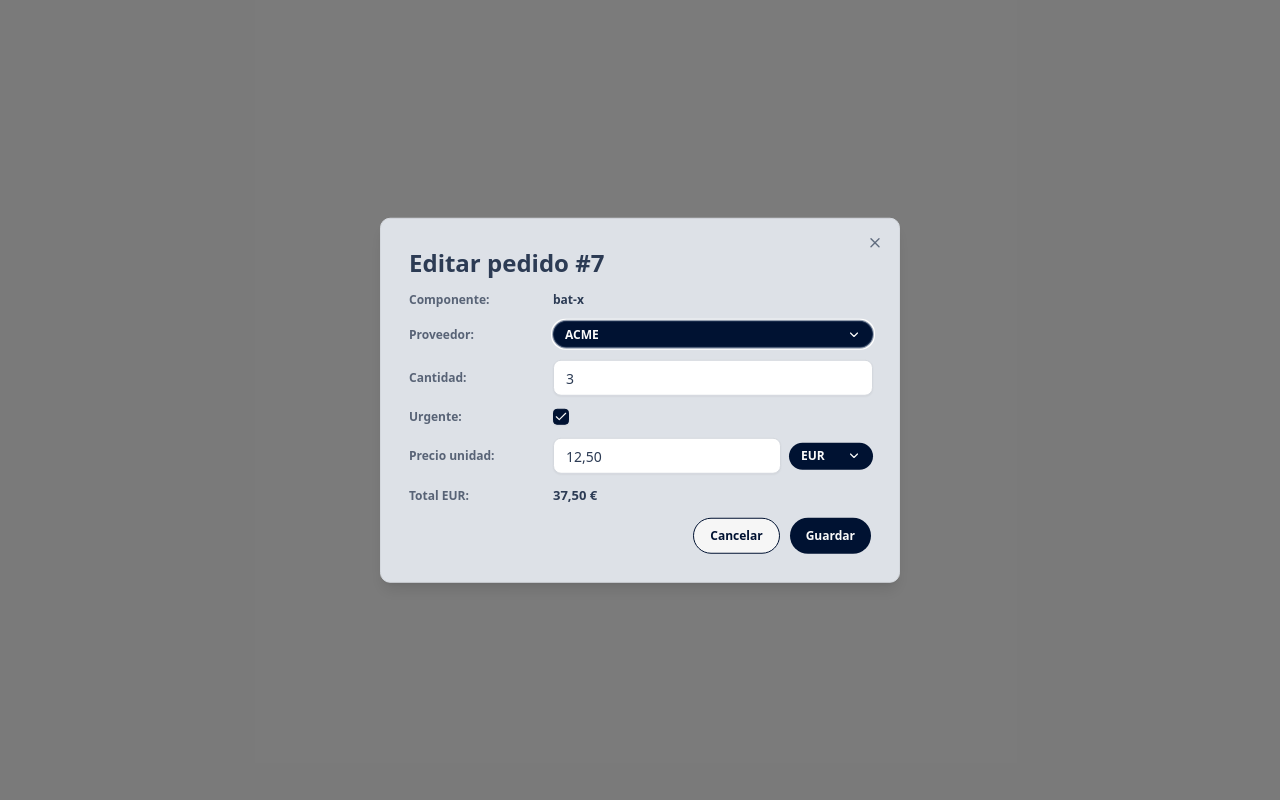
Test: «Editar pedido» cambiando el proveedor (0.9.9, spec §6.6) › 409 de un bloque destino que ya no existe: enseña el texto del servidor y vuelve a sugerir con los datos recargados
Check: the dialog "Editar pedido #7" is shown, box [380,218,900,582]
Step 1. Click the dropdown named "Proveedor" → (582, 334), box [553,321,873,348]
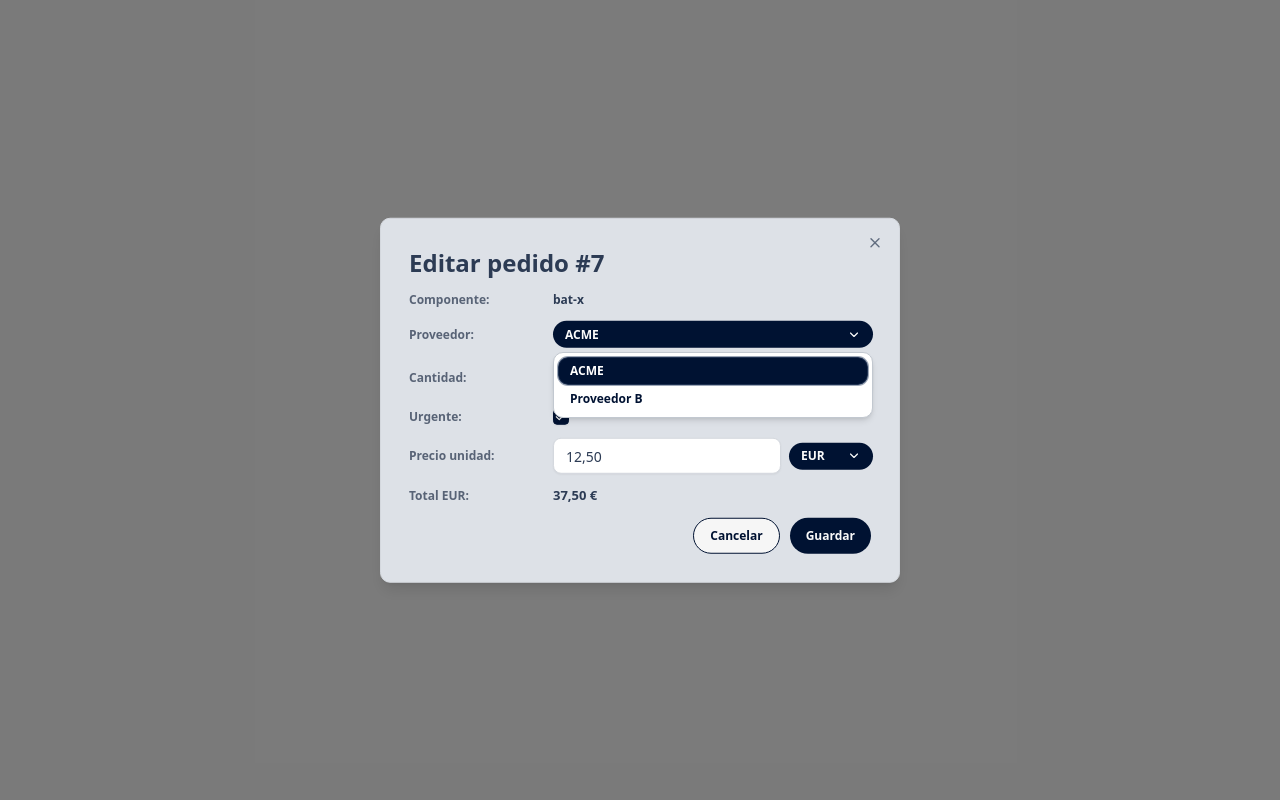
Step 2. Click the button "Proveedor B" → (606, 398), box [558,385,868,413]
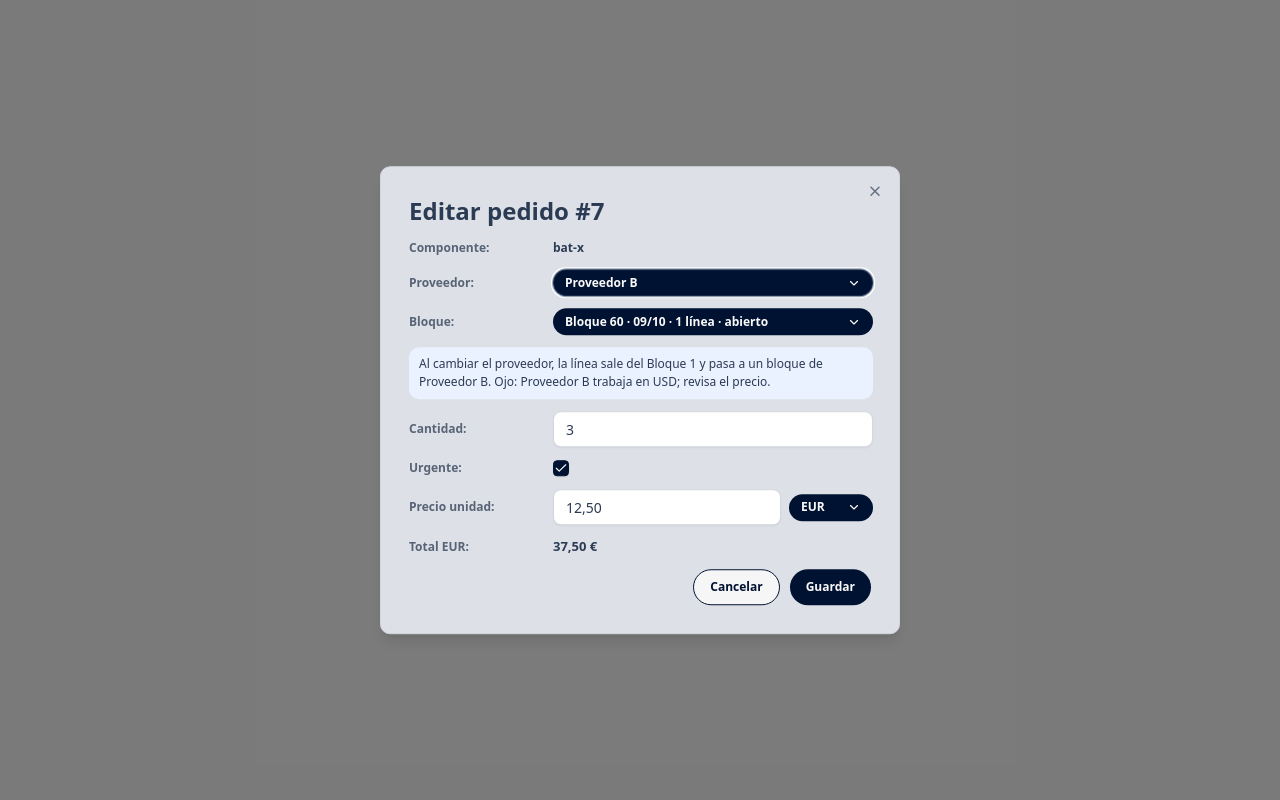
Check: the dropdown labelled "Bloque" shows "Bloque 60", box [553,308,873,335]
Step 3. Click the button "Guardar" → (830, 587), box [790,569,871,605]
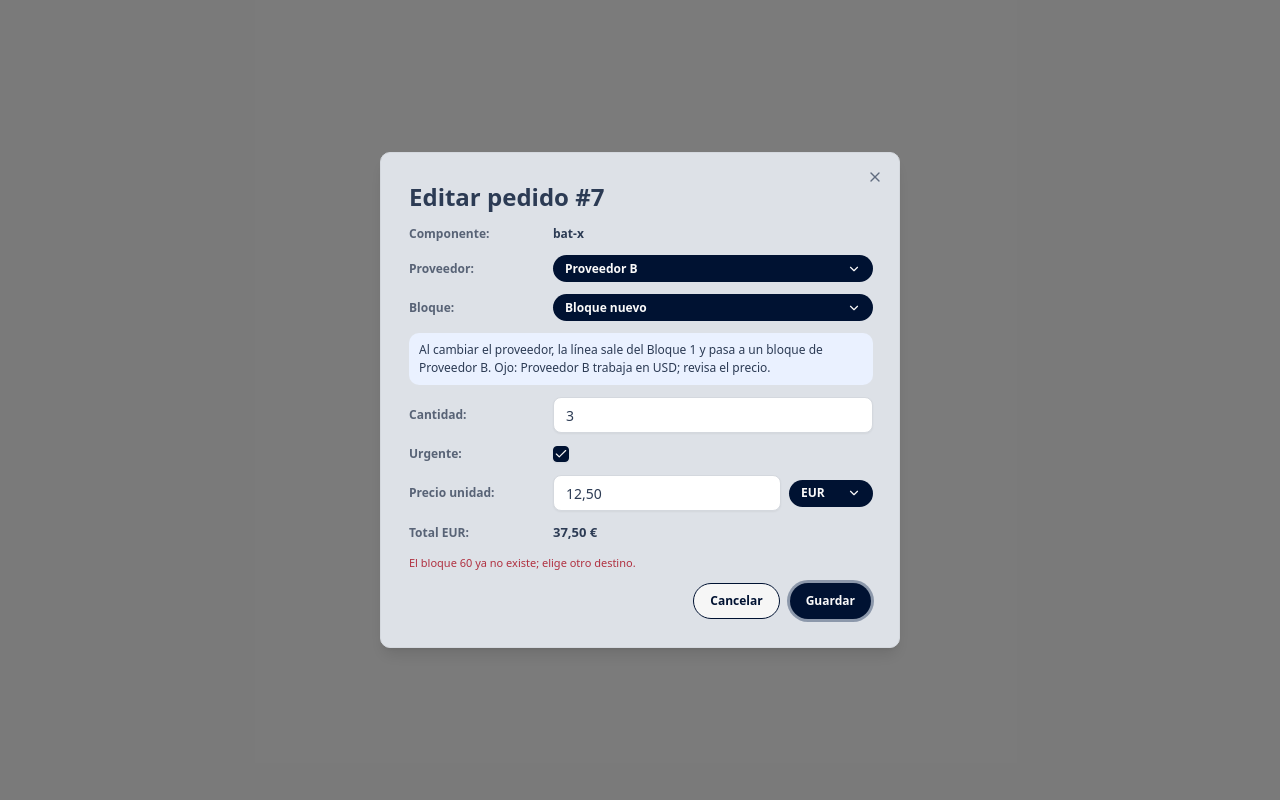
Check: the message reads "El bloque 60 ya no existe; elige otro destino.", box [409,554,636,570]
Check: the dropdown labelled "Bloque" reads "Bloque nuevo", box [553,294,873,321]
